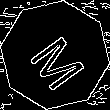M_NE: (21, 21, 89, 89)
